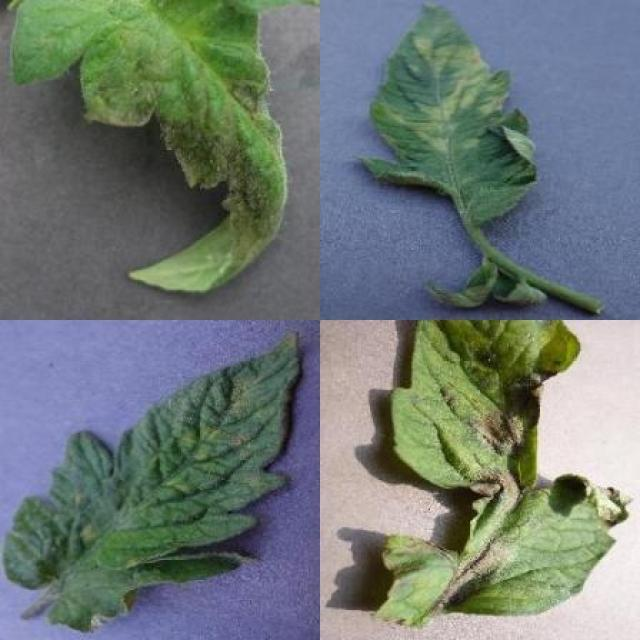Late Blight: (373, 320, 633, 630), (12, 0, 287, 293)
Leaf Mold: (3, 329, 300, 634), (362, 3, 537, 226)
